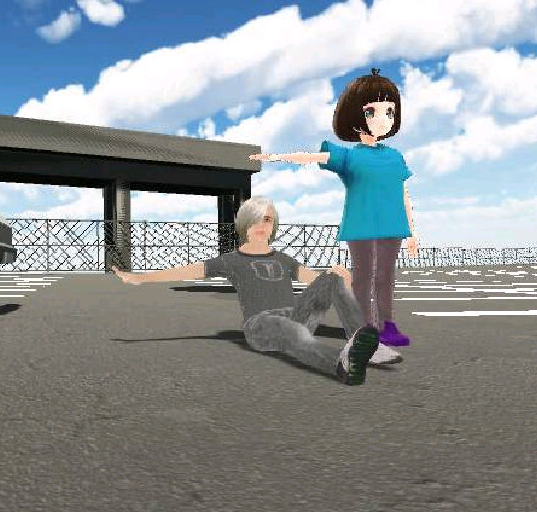doubleP_left: (108, 68, 415, 388)
